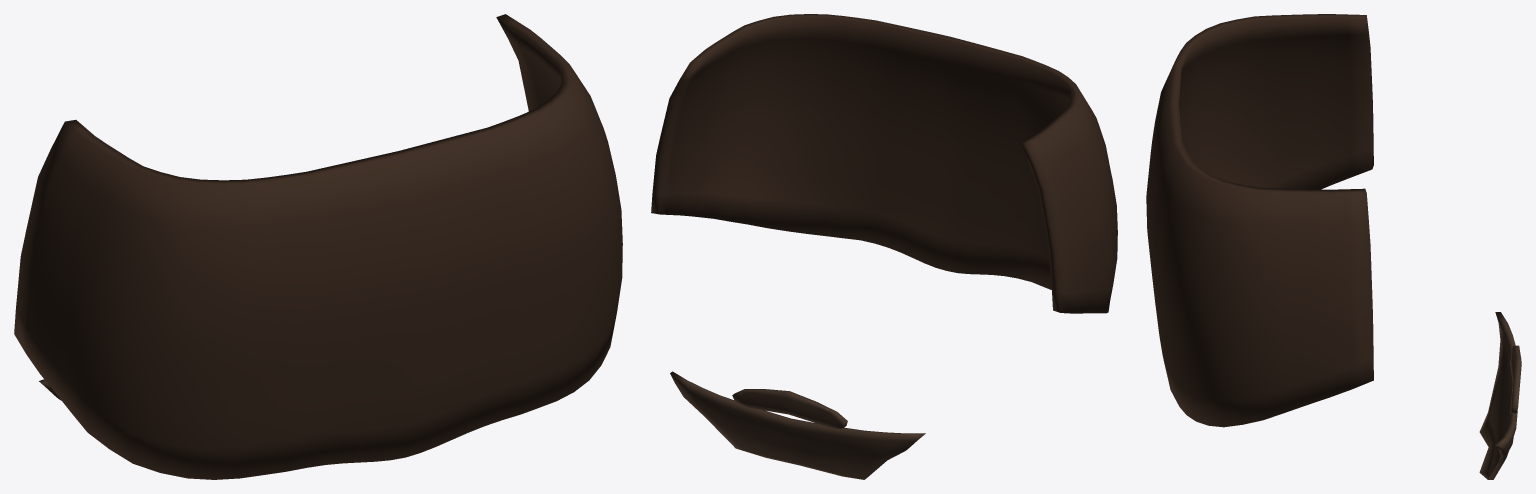
Rendered from VeteranFace.glb.
The picture shows the model from 3 angles, left to right: view 1: azimuth 30°, elevation 25°; view 2: azimuth 150°, elevation 25°; view 3: azimuth 270°, elevation 25°; orthographic projection. The views are drawn at different scales.
Visible parts, largest first — view 1: Geo_ReedHair; view 2: Geo_ReedHair, Geo_ReedBeard; view 3: Geo_ReedHair, Geo_ReedBeard.
Boxes of the visible parts, x1,y1,x2,y2 form: Geo_ReedHair: (14,14,622,479); Geo_ReedHair: (651,14,1117,313); Geo_ReedBeard: (670,371,925,479); Geo_ReedHair: (1146,14,1373,427); Geo_ReedBeard: (1479,312,1521,479).
Bounding box in the file's own units: 1.29 × 0.961 × 0.9384.
